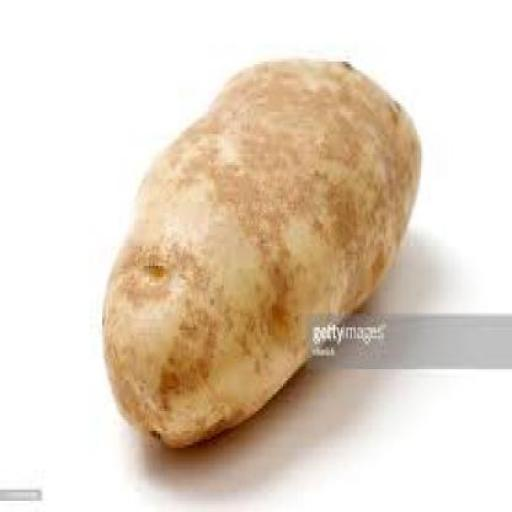biodegradable: (103, 62, 419, 448)
